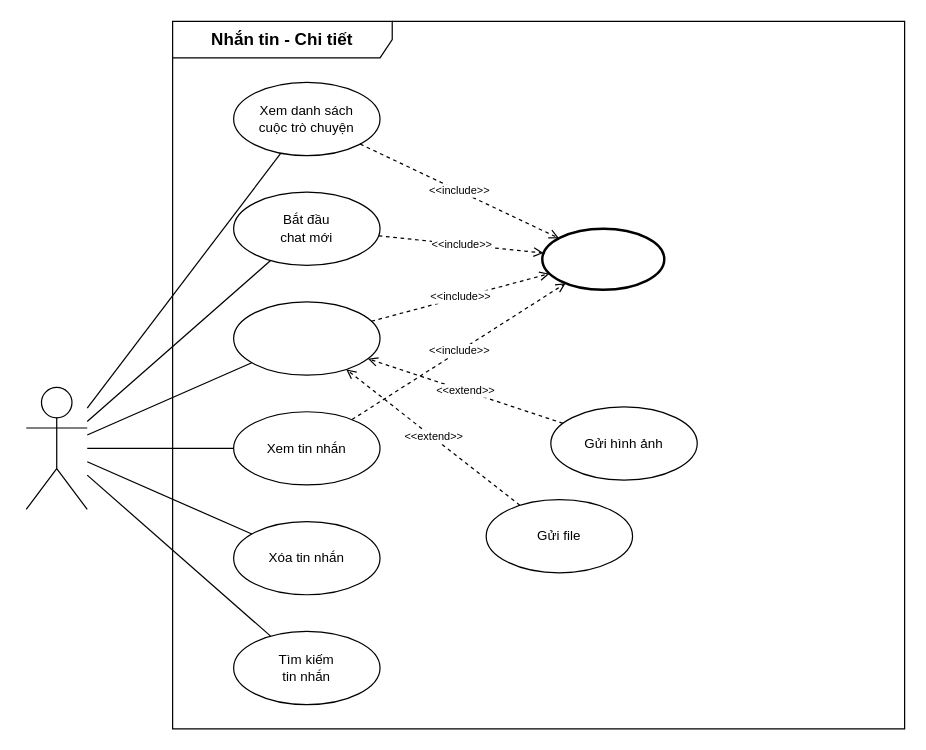
This 926x750 diagram has some shape labels left out. Here are the shapes that lost their labels. From the top down, the centre of each, then its label:
At (602,258): "Đăng nhập".
At (306,338): "Gửi tin nhắn text".
At (56,447): "Registered User".
